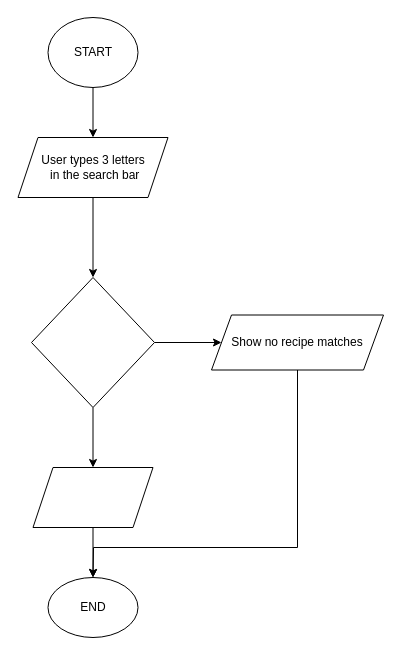
This 401x655 diagram has some shape labels left out. The centre of each missing label's shape, as x and y in pixels:
"if research in title, ingredient or description" belongs at (x=92, y=342).
"Show recipes" belongs at (x=92, y=497).
